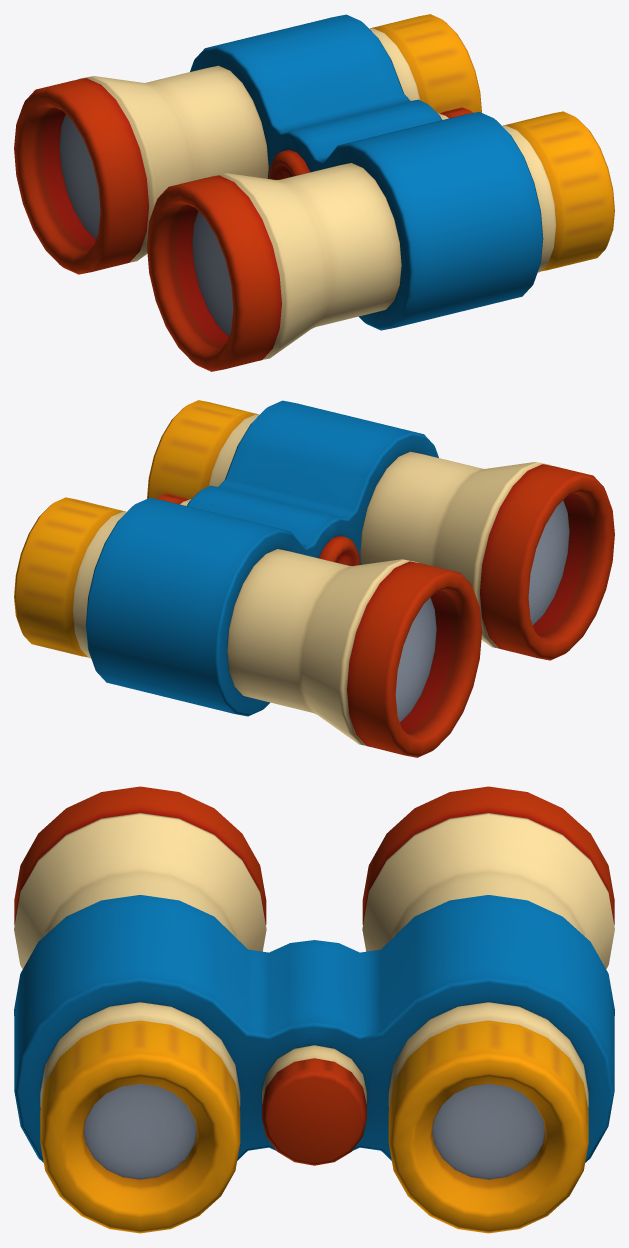
File: StackUp_ToyBinoculars.fbx
3 views of the same model, one above another, from view 1: azimuth 30°, elevation 25°; view 2: azimuth 150°, elevation 25°; view 3: azimuth 270°, elevation 25° (orthographic). The views are drawn at different scales.
Parts seen in each view (by area): view 1: StackUp_ToyBinoculars; view 2: StackUp_ToyBinoculars; view 3: StackUp_ToyBinoculars.
Part boxes in pixels (x1,y1,x2,y2): StackUp_ToyBinoculars: [14, 14, 614, 371]; StackUp_ToyBinoculars: [14, 400, 614, 757]; StackUp_ToyBinoculars: [14, 786, 614, 1233].
Bounding box in the file's own units: 14.38 × 6.2 × 14.76.
